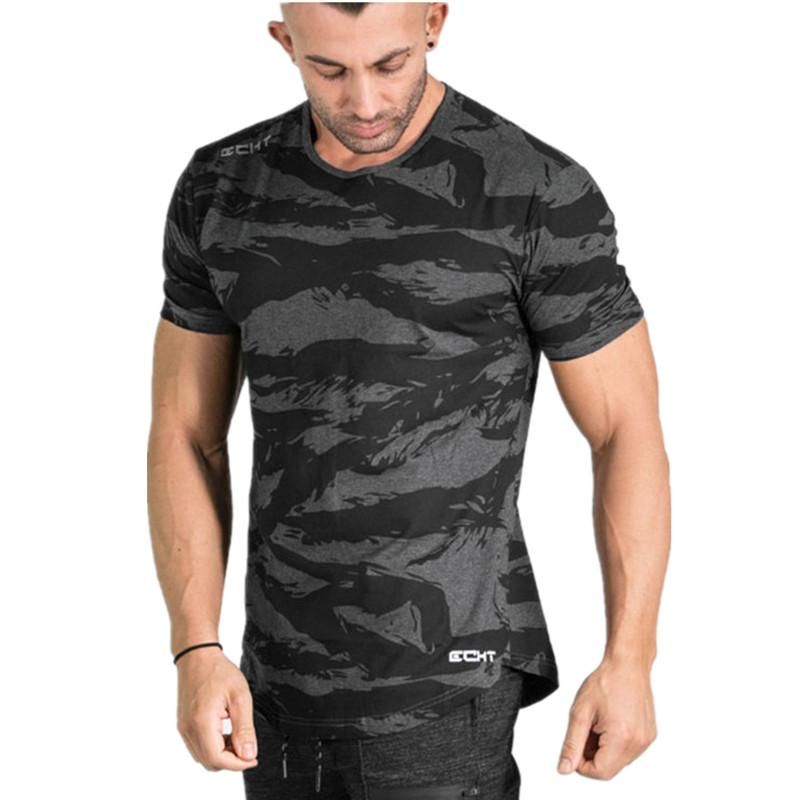T-Shirt: (151, 100, 647, 706)
